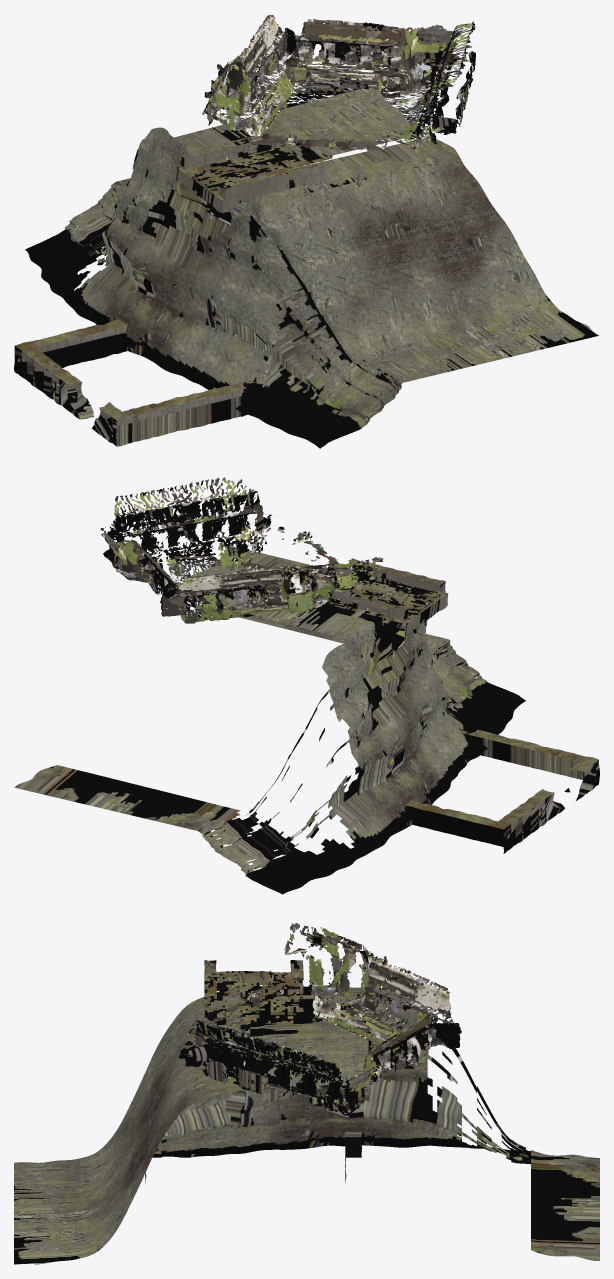
The model's file is escarpment.glb.
3 renders of one model, top to bottom at view 1: azimuth 30°, elevation 25°; view 2: azimuth 150°, elevation 25°; view 3: azimuth 270°, elevation 25°, orthographic. The views are drawn at different scales.
Parts seen in each view (by area): view 1: bake_escarpment; view 2: bake_escarpment; view 3: bake_escarpment.
Part boxes in pixels (left/top/right/bottom): bake_escarpment: left=14, top=14, right=599, bottom=448; bake_escarpment: left=14, top=477, right=599, bottom=894; bake_escarpment: left=14, top=923, right=599, bottom=1264.
Size of the model in its own units: 40.45 by 22.84 by 44.
1 material, 1 textured.
